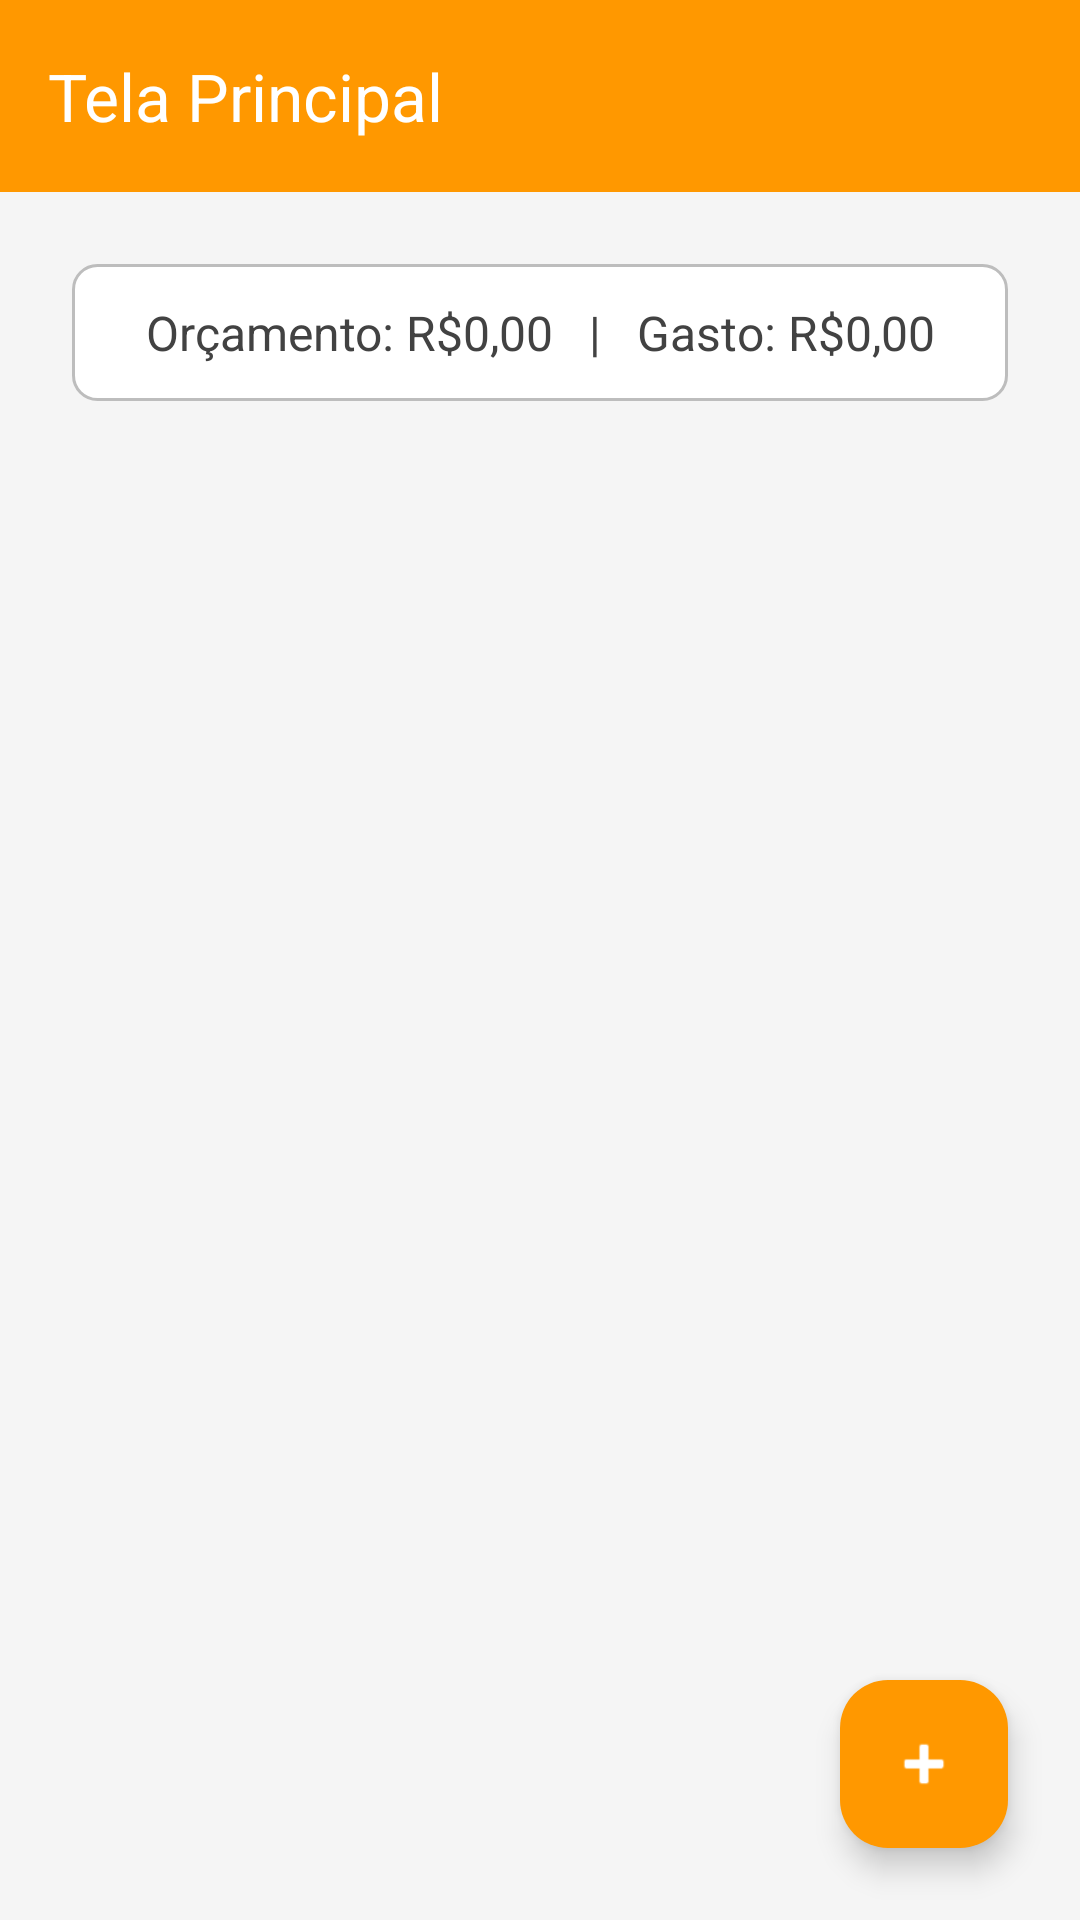

Icon click points for this 1080x1920 phone screenshot, format point (x, y):
Adicionar: point (924, 1764)
